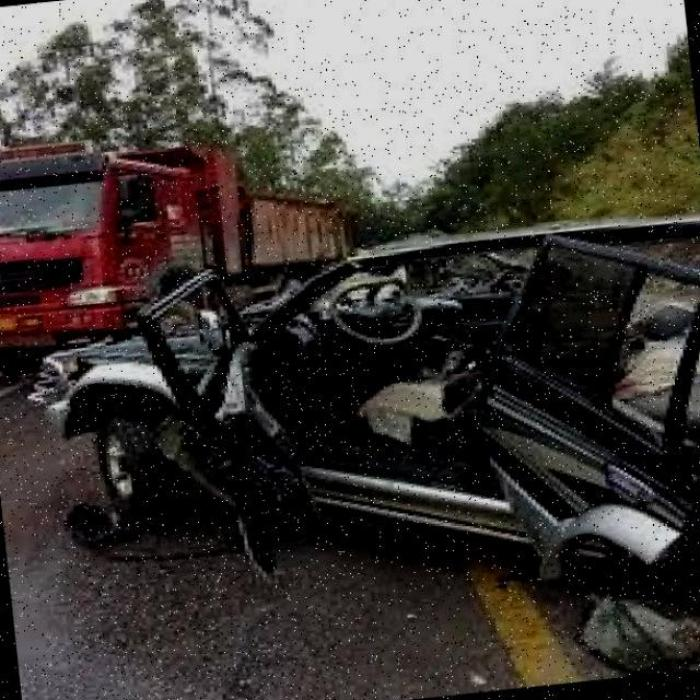Accident: (9, 192, 700, 685)
